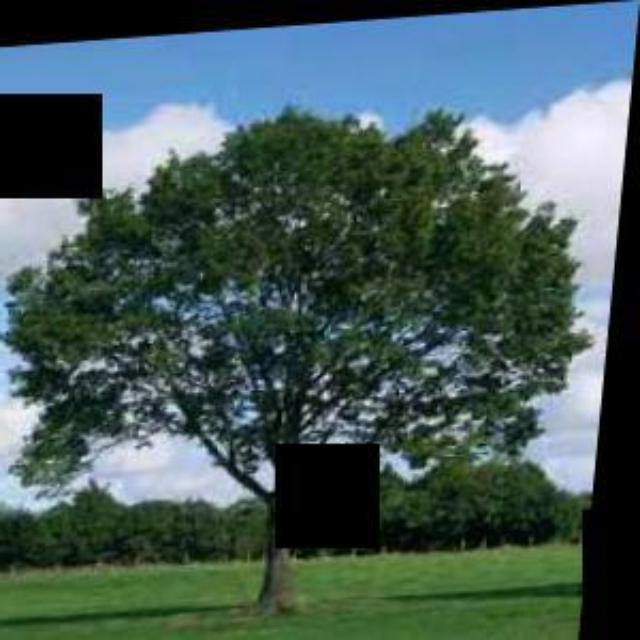tree: (2, 77, 636, 631)
